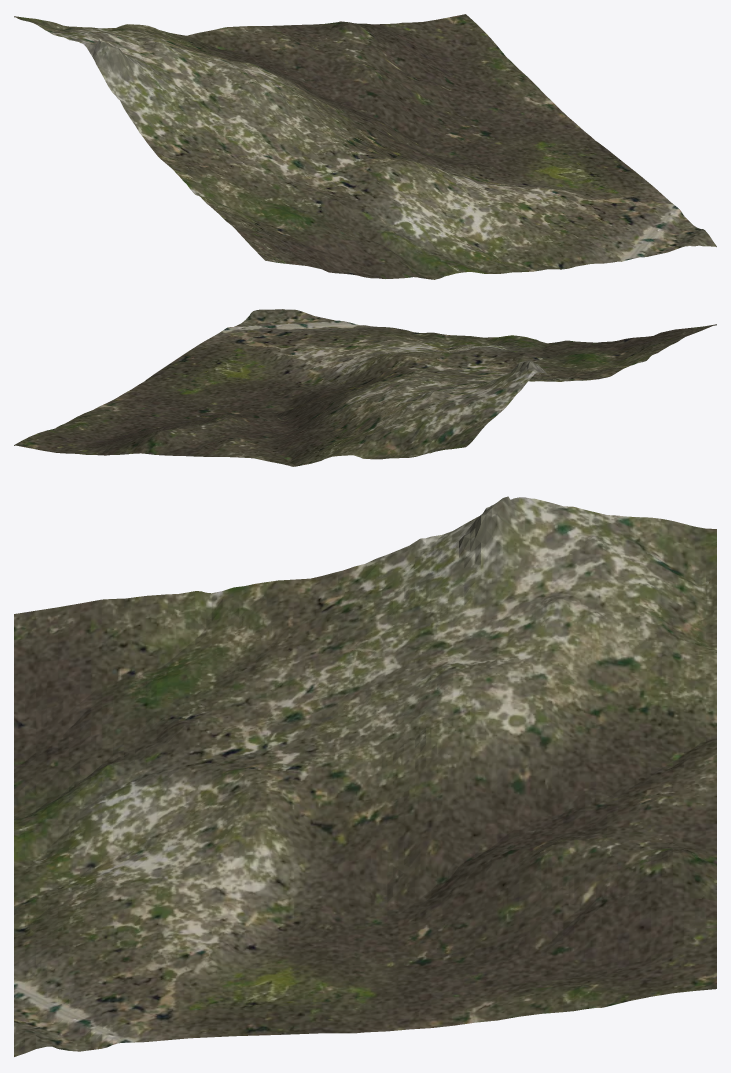
3 views of the same model, one above another, from view 1: azimuth 30°, elevation 25°; view 2: azimuth 150°, elevation 25°; view 3: azimuth 270°, elevation 25° (orthographic). The views are drawn at different scales.
Size of the model in its own units: 500 by 197 by 481.
1 material, 1 textured.
